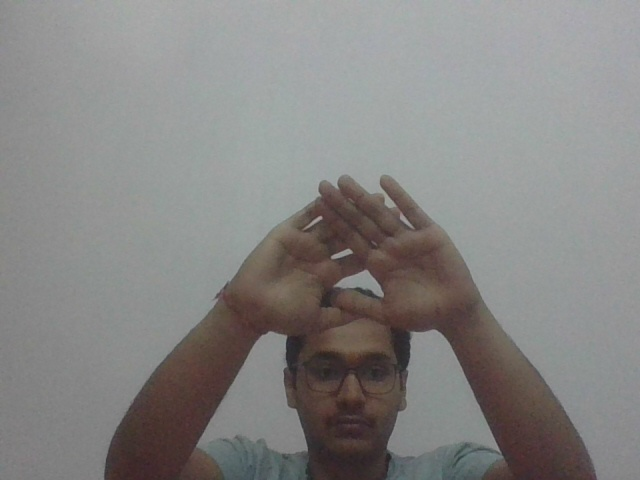W: (250, 173, 465, 340)
